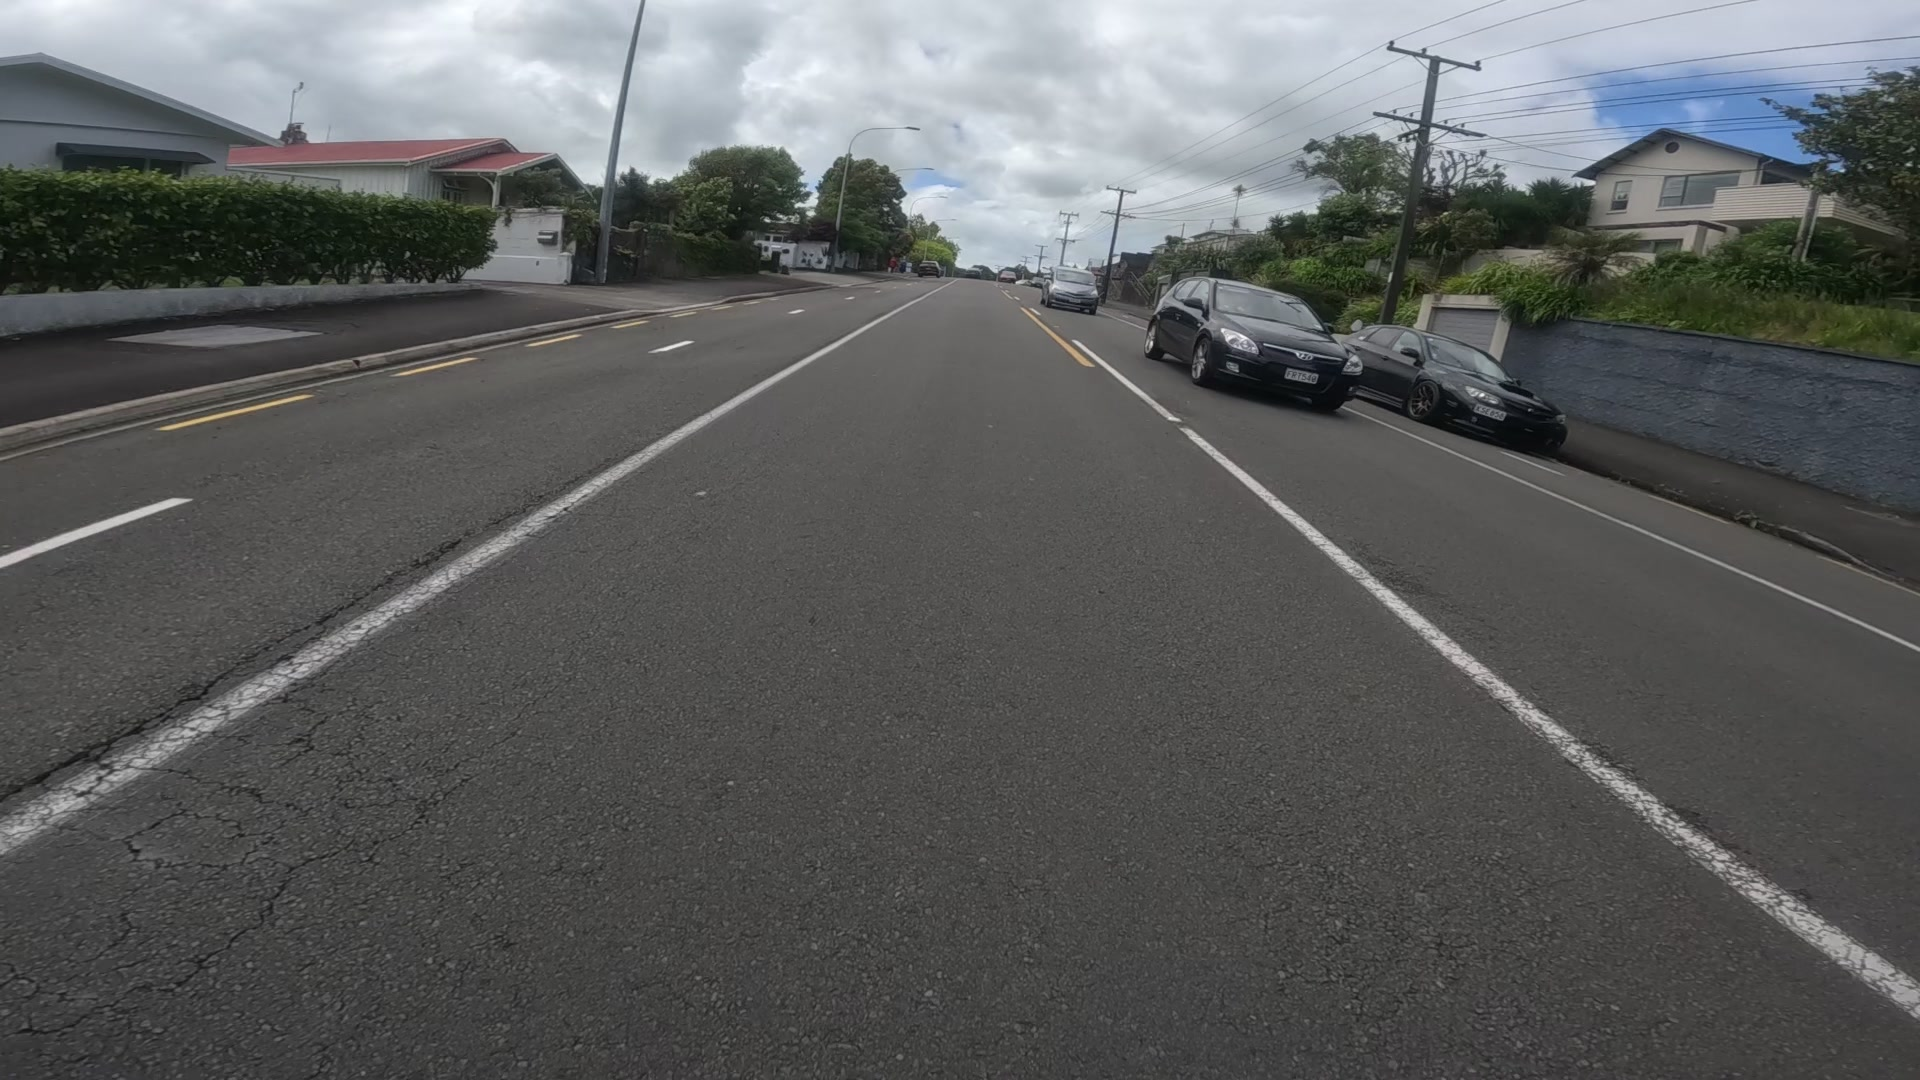Longitudinal_Cracking: (33, 526, 492, 782)
